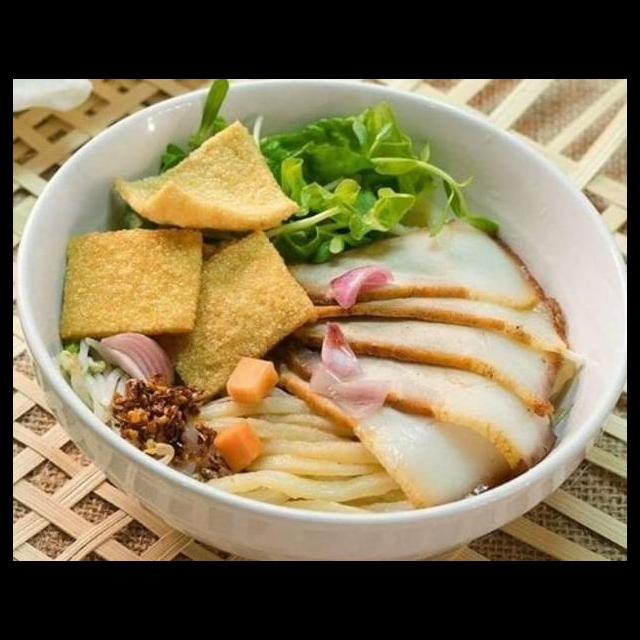banh da: (138, 224, 318, 406), (109, 113, 306, 240), (54, 223, 208, 342)
mi: (176, 381, 430, 518)
mi quang: (16, 117, 627, 561)
thit heo: (275, 329, 563, 478), (265, 350, 524, 513), (286, 310, 570, 423), (259, 212, 550, 318), (287, 281, 571, 360)
